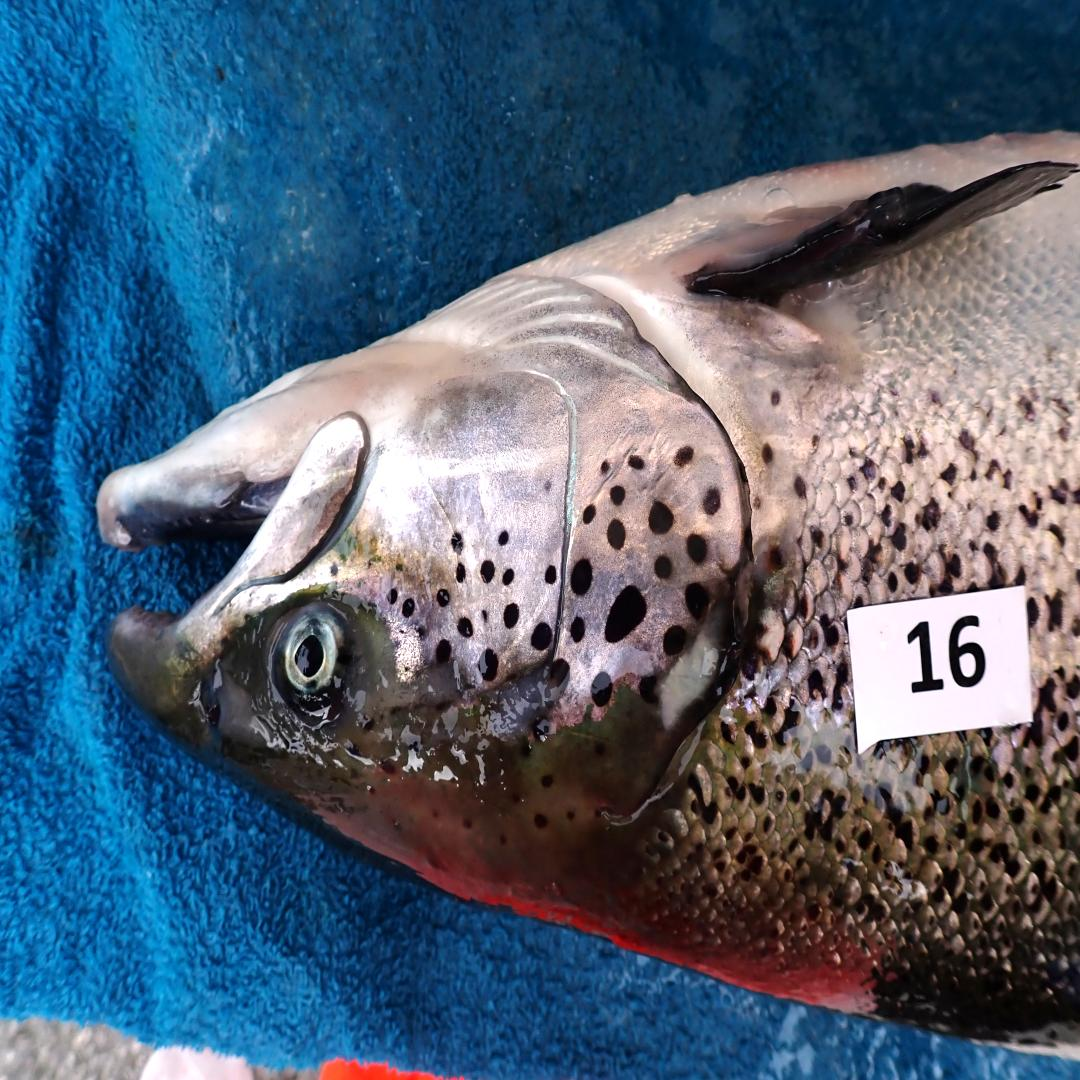roi: (367, 267, 751, 737)
